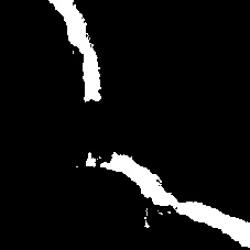crack: (102, 151, 249, 249), (46, 2, 102, 103)
pinhole: (86, 152, 99, 168), (145, 208, 153, 231)
